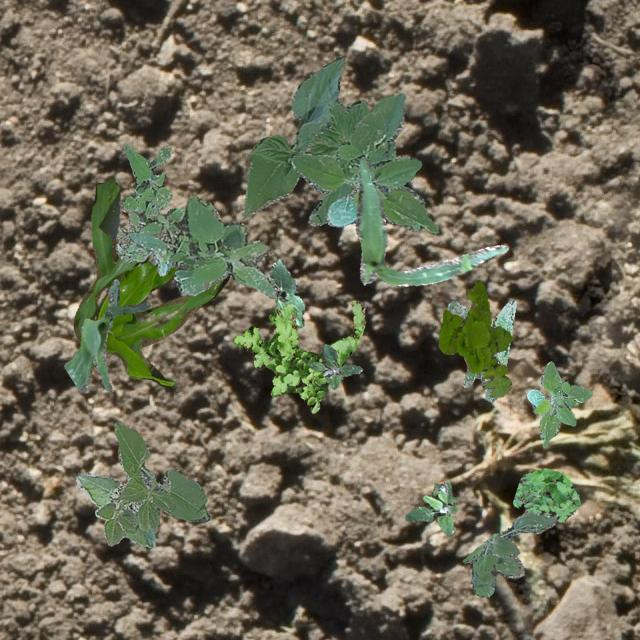crop: (72, 178, 228, 386), (240, 54, 404, 226), (354, 156, 506, 286), (290, 109, 438, 234), (74, 420, 210, 548), (64, 278, 150, 392), (526, 361, 592, 446), (268, 258, 304, 326)
weed: (128, 195, 278, 298), (232, 299, 364, 412), (438, 279, 512, 396), (462, 510, 556, 596), (446, 300, 514, 400), (118, 144, 172, 218), (115, 210, 172, 276), (512, 468, 580, 520), (404, 480, 456, 534), (308, 344, 362, 388)
